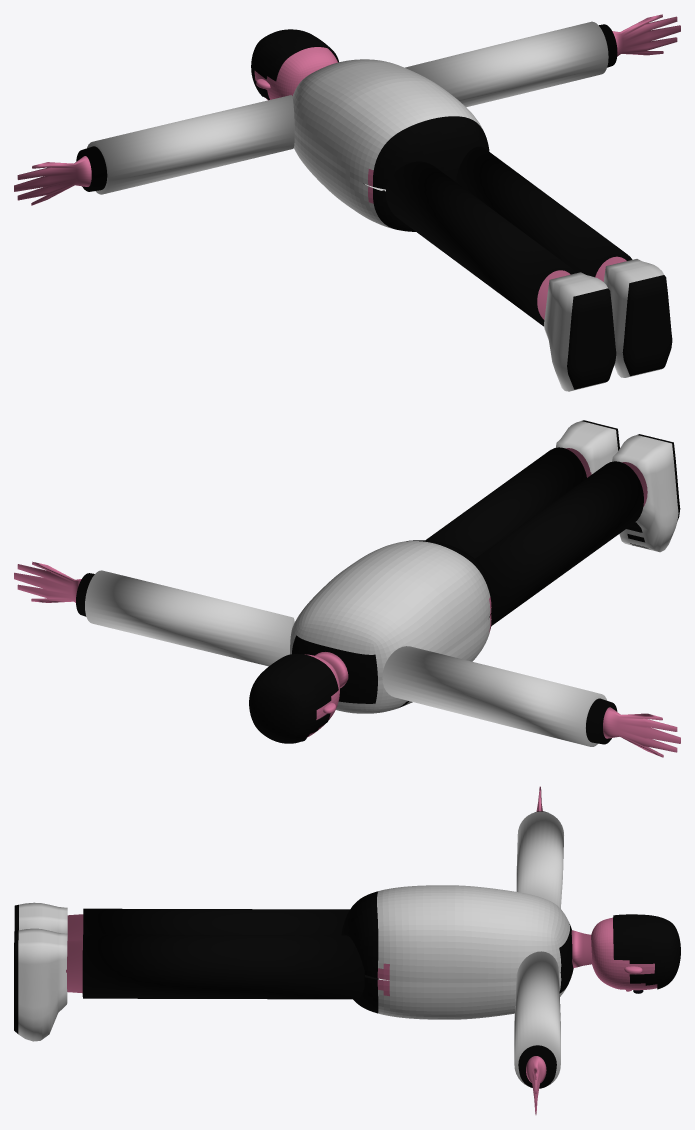
File: waiter.obj
3 renders of one model, top to bottom at view 1: azimuth 30°, elevation 25°; view 2: azimuth 150°, elevation 25°; view 3: azimuth 270°, elevation 25°, orthographic. The views are drawn at different scales.
Parts seen in each view (by area): view 1: Arms, Legs, Body, Shoes, Hand, Hairs, Head; view 2: Arms, Body, Legs, Shoes, Hairs, Hand; view 3: Legs, Body, Arms, Shoes, Hairs, Head, Hand, Neck.
Part boxes in pixels (<box>): Arms: <box>76,21,617,194</box>; Legs: <box>385,146,632,326</box>; Body: <box>292,59,489,231</box>; Shoes: <box>544,259,672,391</box>; Hand: <box>14,14,680,205</box>; Hairs: <box>251,29,338,99</box>; Head: <box>254,47,337,100</box>; Arms: <box>76,570,617,746</box>; Body: <box>290,540,492,713</box>; Legs: <box>425,447,647,625</box>; Shoes: <box>555,420,680,552</box>; Hairs: <box>249,654,338,743</box>; Hand: <box>14,561,680,757</box>; Legs: <box>66,908,364,999</box>; Body: <box>341,885,573,1019</box>; Arms: <box>514,811,563,1088</box>; Shoes: <box>14,902,67,1041</box>; Hairs: <box>613,914,680,989</box>; Head: <box>591,917,657,990</box>; Hand: <box>526,786,546,1114</box>; Neck: <box>571,930,591,968</box>.
Size of the model in its own units: 1.55 by 0.2959 by 1.42.
